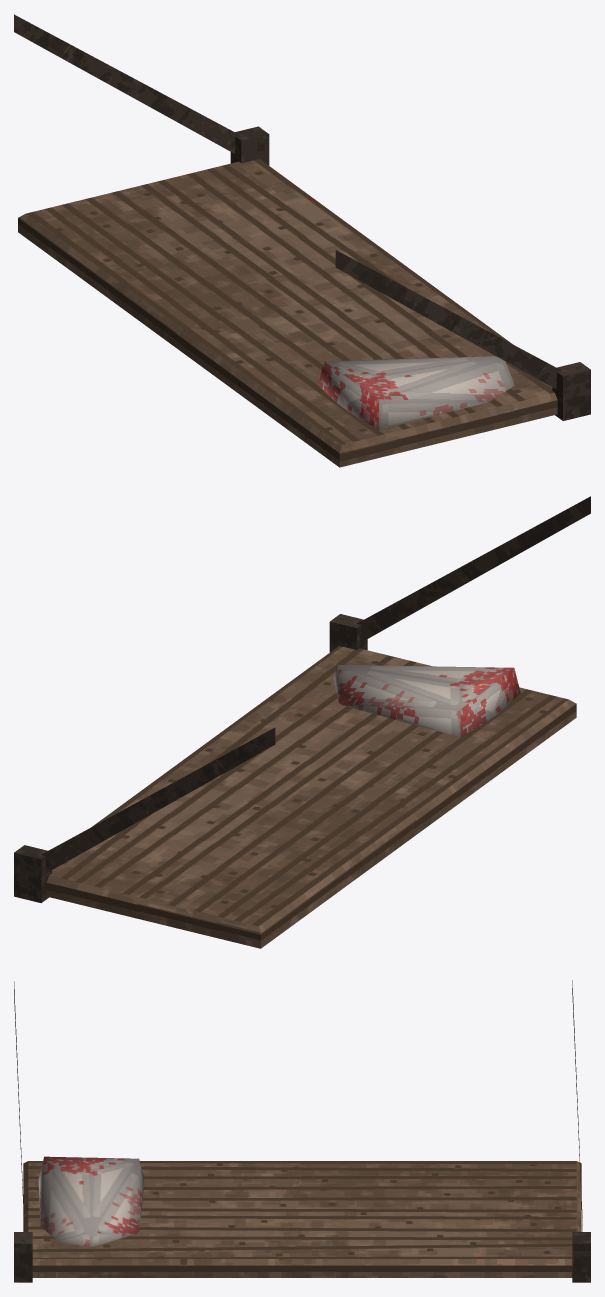
The model's file is Bed.FBX.
The picture shows the model from 3 angles, top to bottom: view 1: azimuth 30°, elevation 25°; view 2: azimuth 150°, elevation 25°; view 3: azimuth 270°, elevation 25°; orthographic projection. The views are drawn at different scales.
Parts seen in each view (by area): view 1: Bed; view 2: Bed; view 3: Bed.
Boxes of the visible parts, bbox=[...] form: Bed: bbox=[14, 14, 590, 467]; Bed: bbox=[14, 496, 590, 948]; Bed: bbox=[14, 980, 590, 1282].
Bounding box in the file's own units: 13.75 × 11.68 × 31.
1 material, 1 textured.
